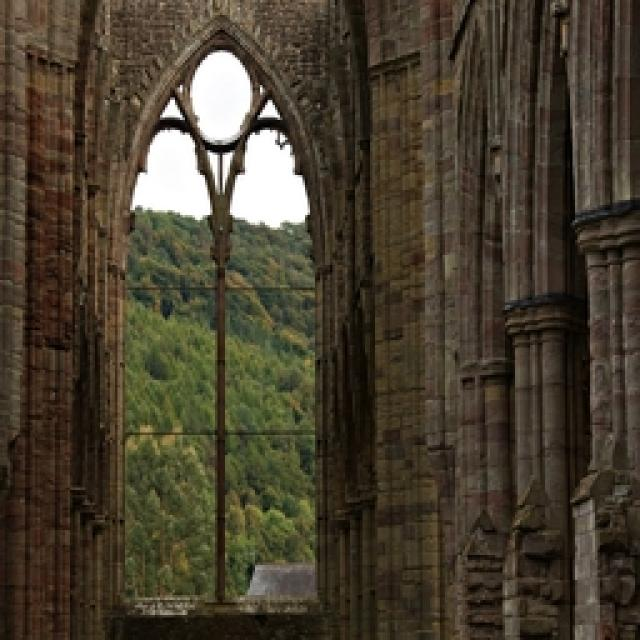Abbey: (68, 8, 623, 613)
